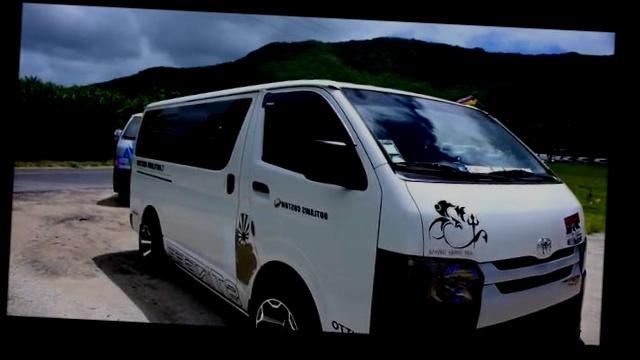van: (109, 68, 598, 345)
